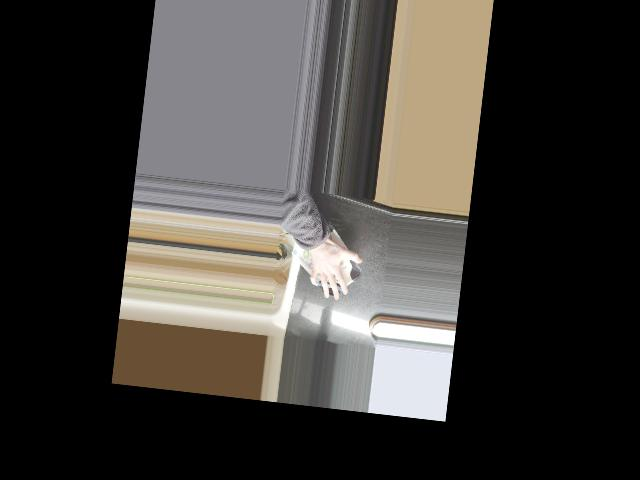cheese: (284, 218, 368, 301)
